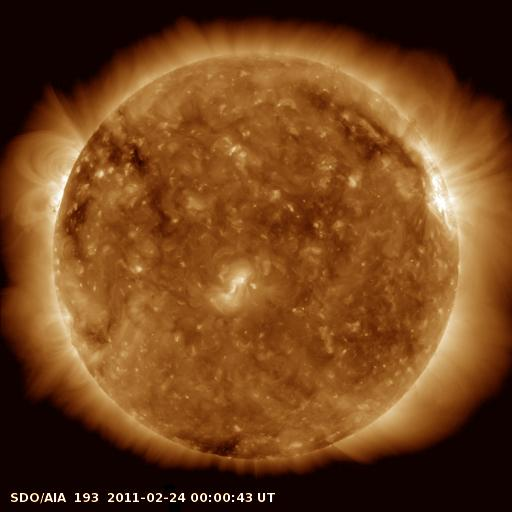coronal_hole: (48, 117, 122, 252), (166, 429, 250, 467)
